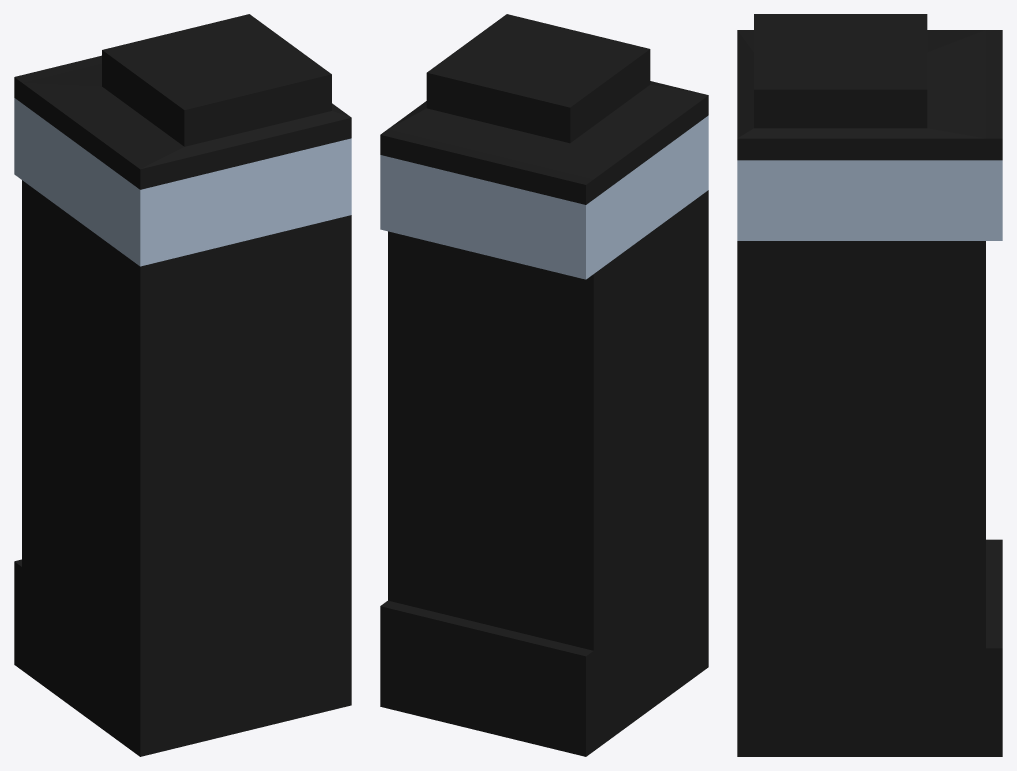
The model's file is building3.glb.
The picture shows the model from 3 angles, left to right: view 1: azimuth 30°, elevation 25°; view 2: azimuth 150°, elevation 25°; view 3: azimuth 270°, elevation 25°; orthographic projection. The views are drawn at different scales.
Parts seen in each view (by area): view 1: Cube.002; view 2: Cube.002; view 3: Cube.002.
Boxes of the visible parts, <box> form: Cube.002: <box>14,14,351,756</box>; Cube.002: <box>380,14,708,756</box>; Cube.002: <box>737,14,1002,756</box>.
Bounding box in the file's own units: 3.21 × 9.12 × 3.32.
